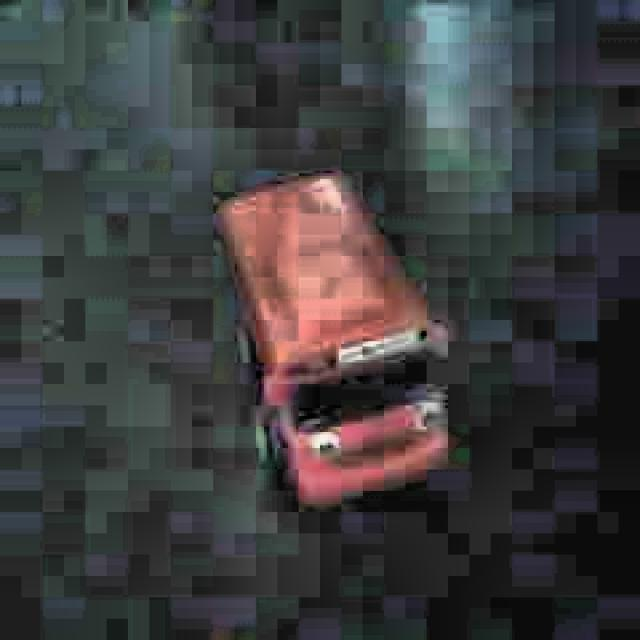bus: (214, 165, 454, 510)
